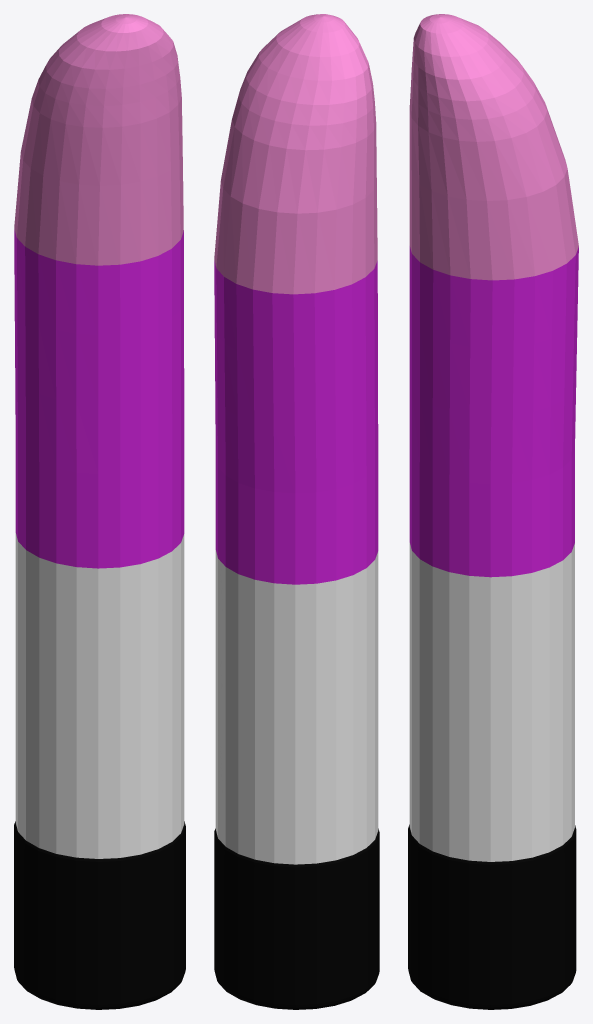
Rendered from DAZ_Base.fbx.
The picture shows the model from 3 angles, left to right: view 1: azimuth 30°, elevation 25°; view 2: azimuth 150°, elevation 25°; view 3: azimuth 270°, elevation 25°; orthographic projection. The views are drawn at different scales.
Visible parts, largest first — view 1: P5 Classy Vibrator_674.Shape; view 2: P5 Classy Vibrator_674.Shape; view 3: P5 Classy Vibrator_674.Shape.
Part boxes in pixels (bbox=[...]): P5 Classy Vibrator_674.Shape: bbox=[14, 14, 185, 1009]; P5 Classy Vibrator_674.Shape: bbox=[214, 14, 379, 1009]; P5 Classy Vibrator_674.Shape: bbox=[408, 14, 578, 1009].
Bounding box in the file's own units: 3.25 × 20.41 × 3.3.
